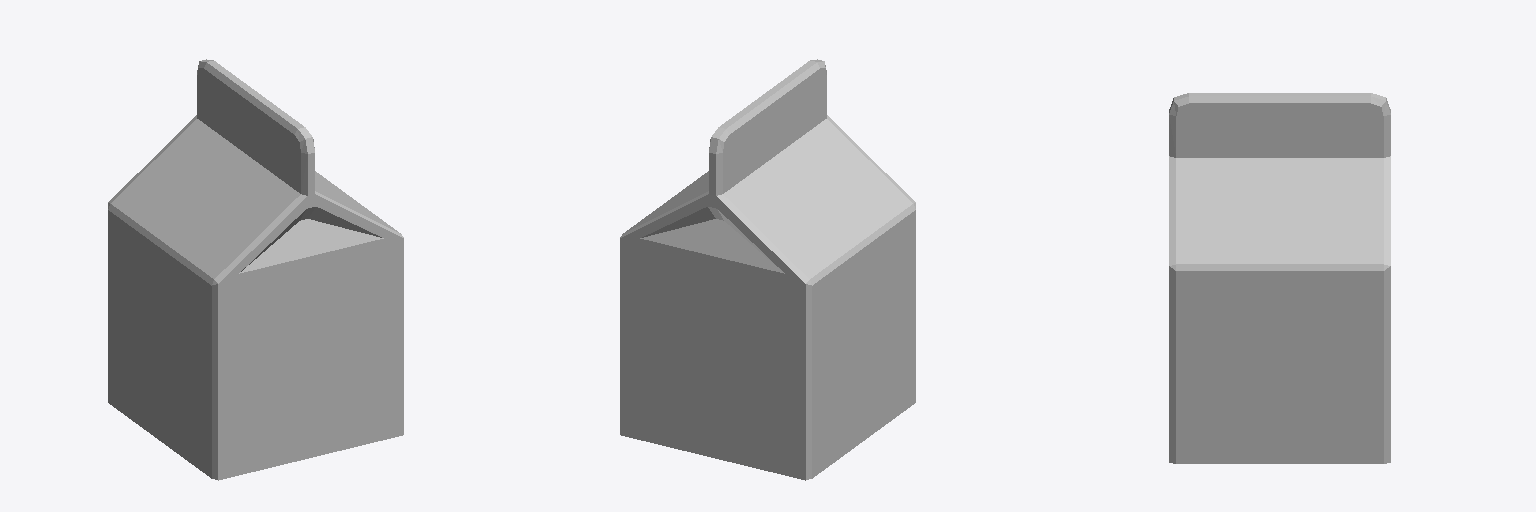
Rendered from Leche.obj.
3 views of the same model, side by side, from view 1: azimuth 30°, elevation 25°; view 2: azimuth 150°, elevation 25°; view 3: azimuth 270°, elevation 25° (orthographic).
Parts seen in each view (by area): view 1: hypercasual_prop003; view 2: hypercasual_prop003; view 3: hypercasual_prop003.
Part boxes in pixels (x1,y1,x2,y2): hypercasual_prop003: (108, 59, 403, 480); hypercasual_prop003: (620, 59, 915, 480); hypercasual_prop003: (1169, 93, 1390, 463).
Size of the model in its own units: 1.12 by 1.79 by 1.12.